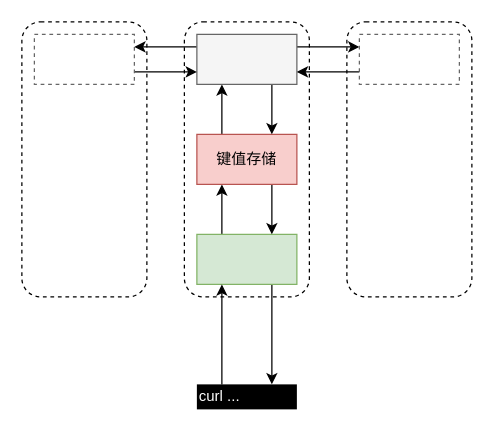
Image size: 494x431. Some labels were removed from this diagram. The box of each missing label's shape, as (x1, y1, x2, y2) in pixels:
raft服务器: (196, 33, 297, 84)
REST服务器: (196, 233, 297, 284)
